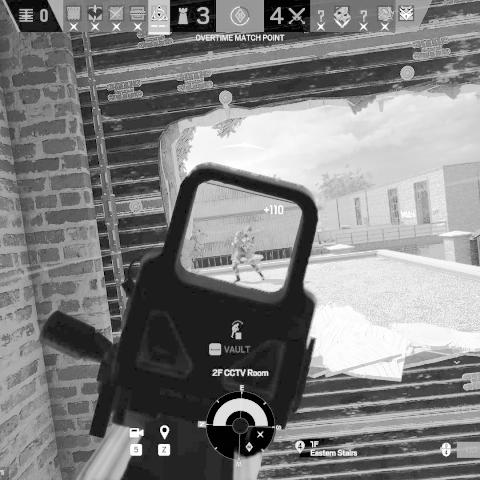Character: (231, 224, 266, 286)
Head: (245, 225, 253, 235)
